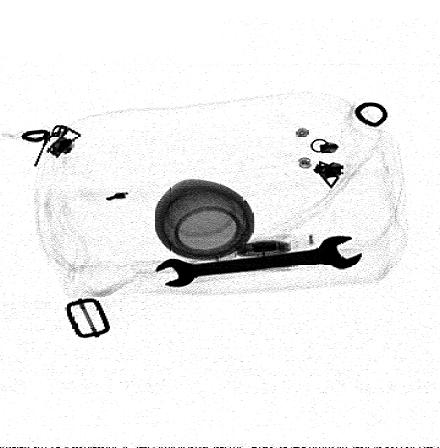Wrench: (153, 235, 363, 288)
